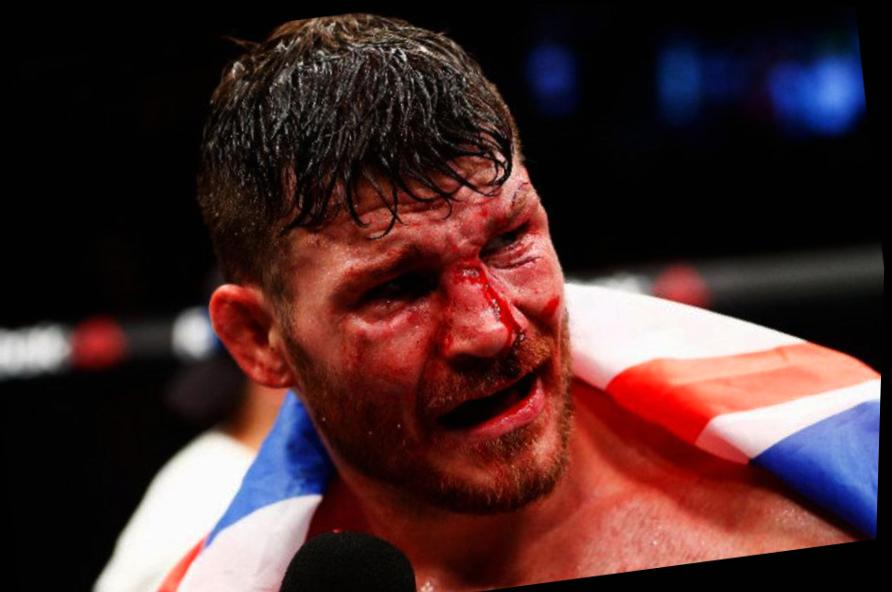Fire: (446, 232, 529, 348), (544, 296, 562, 320), (408, 311, 430, 323), (517, 242, 530, 260), (514, 178, 531, 185), (508, 193, 517, 202), (481, 203, 488, 213)
